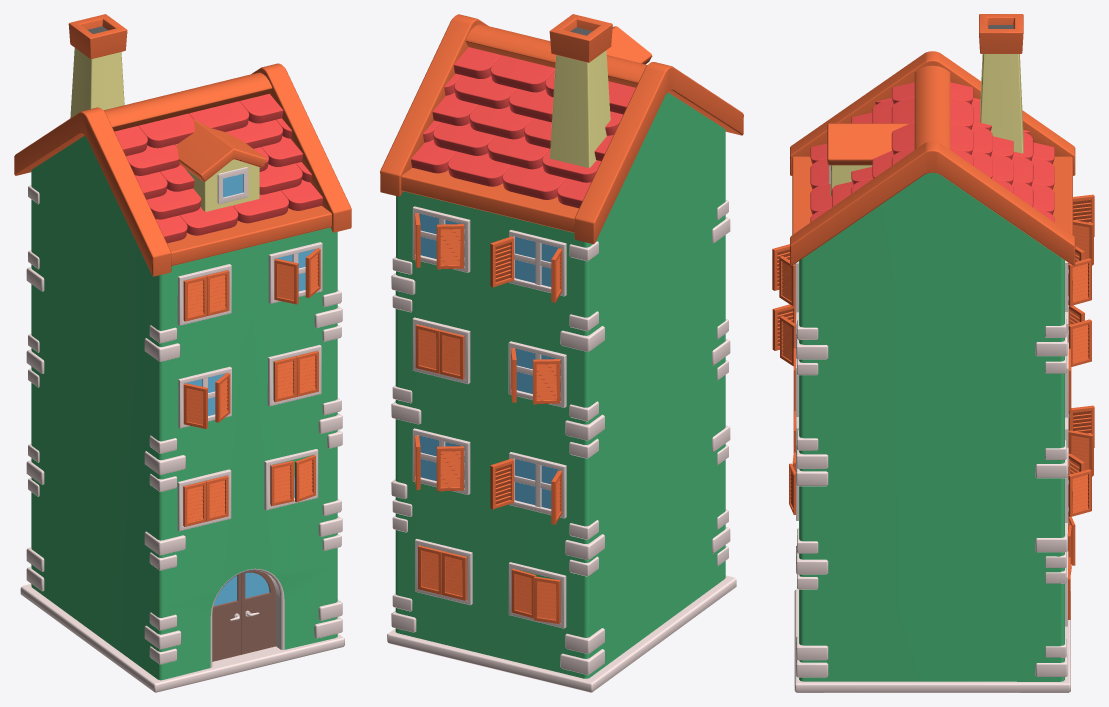
The model's file is City_18_House_1.glb.
3 views of the same model, side by side, from view 1: azimuth 30°, elevation 25°; view 2: azimuth 150°, elevation 25°; view 3: azimuth 270°, elevation 25° (orthographic). The views are drawn at different scales.
Parts seen in each view (by area): view 1: City_18_House_1; view 2: City_18_House_1; view 3: City_18_House_1.
Part boxes in pixels (left/top/right/bottom): City_18_House_1: left=14, top=14, right=351, bottom=692; City_18_House_1: left=380, top=14, right=743, bottom=692; City_18_House_1: left=772, top=14, right=1094, bottom=692.
Bounding box in the file's own units: 5.69 × 15.89 × 7.78.
1 material, 1 textured.
